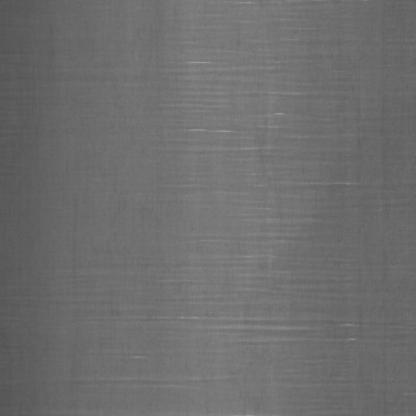waist_folding: (20, 10, 401, 360)
